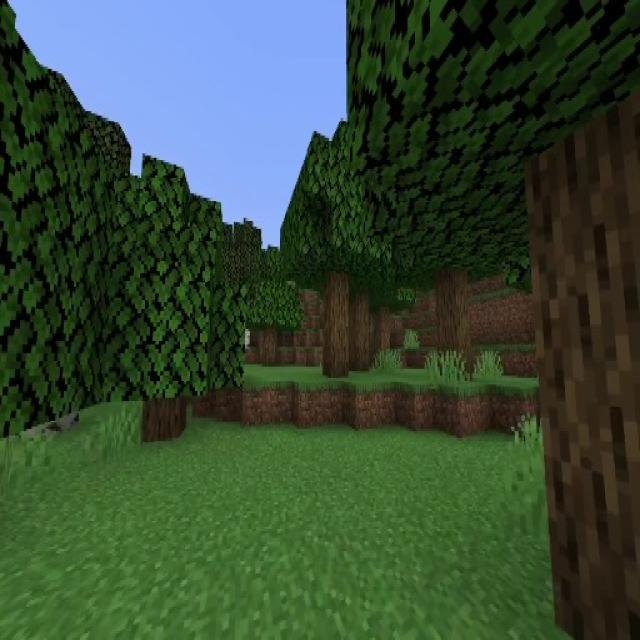oak: (94, 166, 246, 445), (394, 118, 514, 378), (280, 126, 390, 374), (311, 159, 415, 371), (247, 250, 302, 366)
oak_log: (529, 151, 640, 640), (436, 278, 468, 367), (324, 278, 349, 374), (142, 396, 184, 440), (350, 292, 372, 372), (376, 307, 390, 362), (264, 326, 276, 364)
